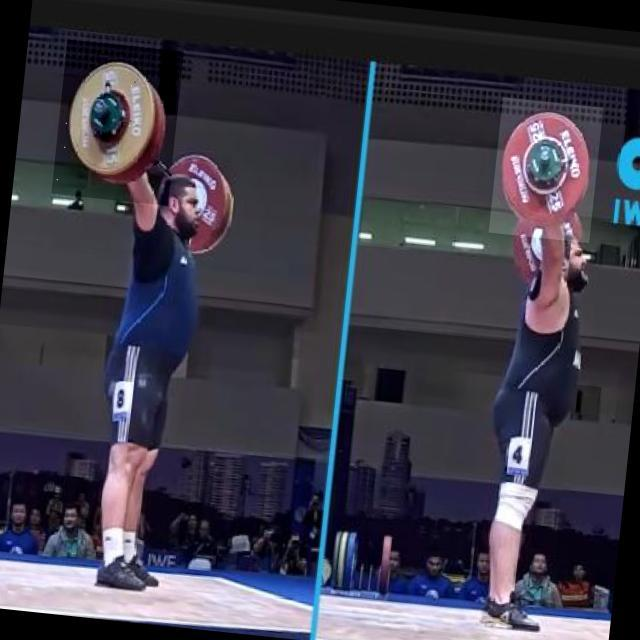barbell: (52, 40, 185, 206), (489, 98, 604, 244)
